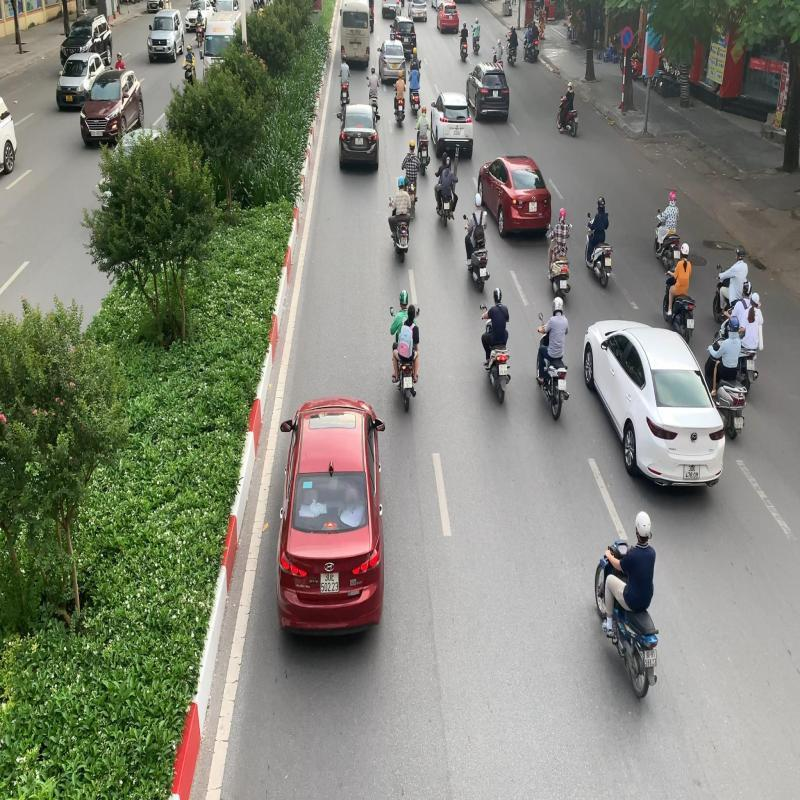motorcyclist: (388, 286, 423, 418)
nohelmet: (407, 303, 416, 321)
